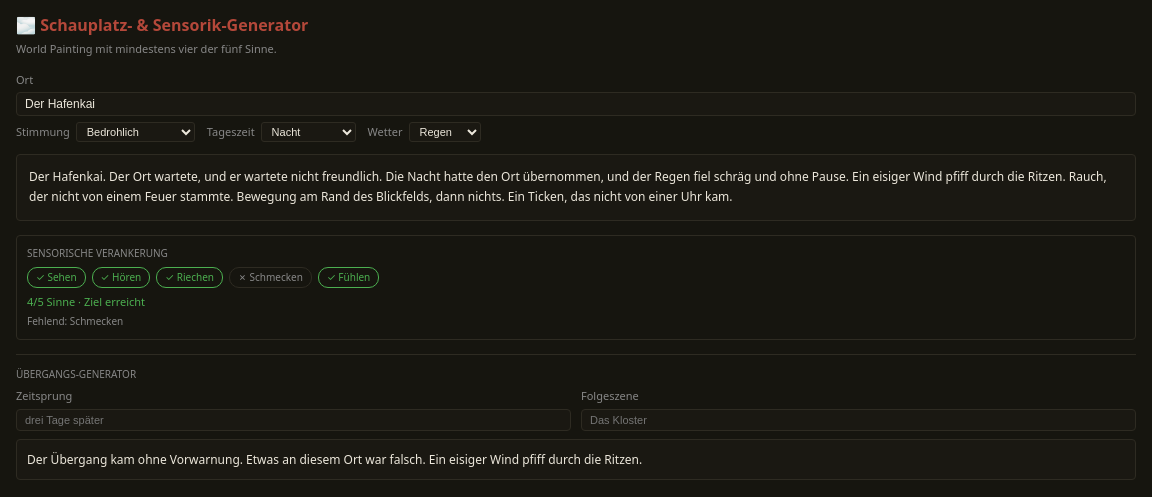
Test: AtmosphereProseGenerator › übernimmt einen neuen Ort
Step 1. Replace the text in the field with test id "atmosphere-location-input" with "Der Leuchtturm" → coordinates (576, 104), box x1=16 y1=92 x2=1136 y2=116
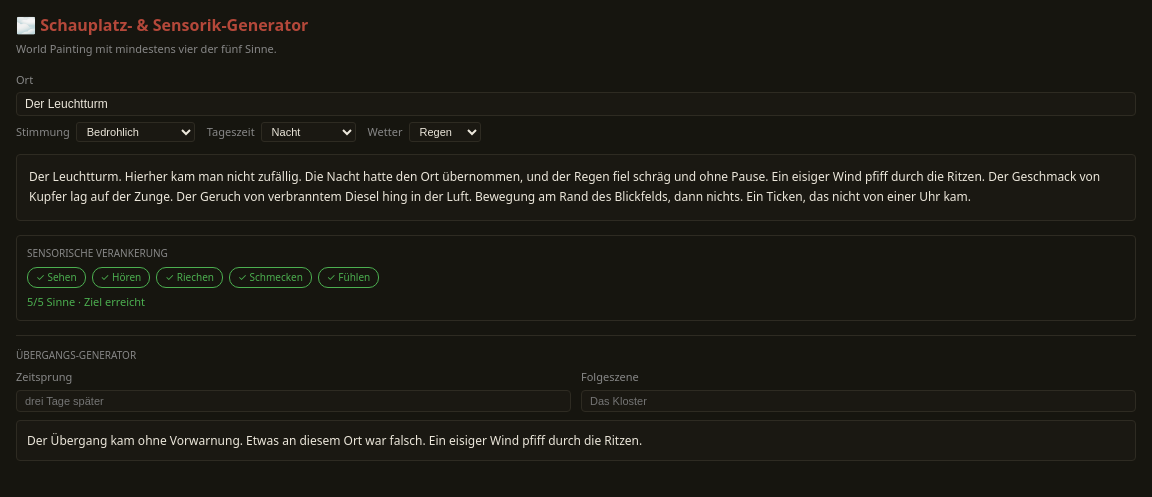
Expected: the text with test id "atmosphere-output" shows "Der Leuchtturm", x1=29 y1=168 x2=1100 y2=205
